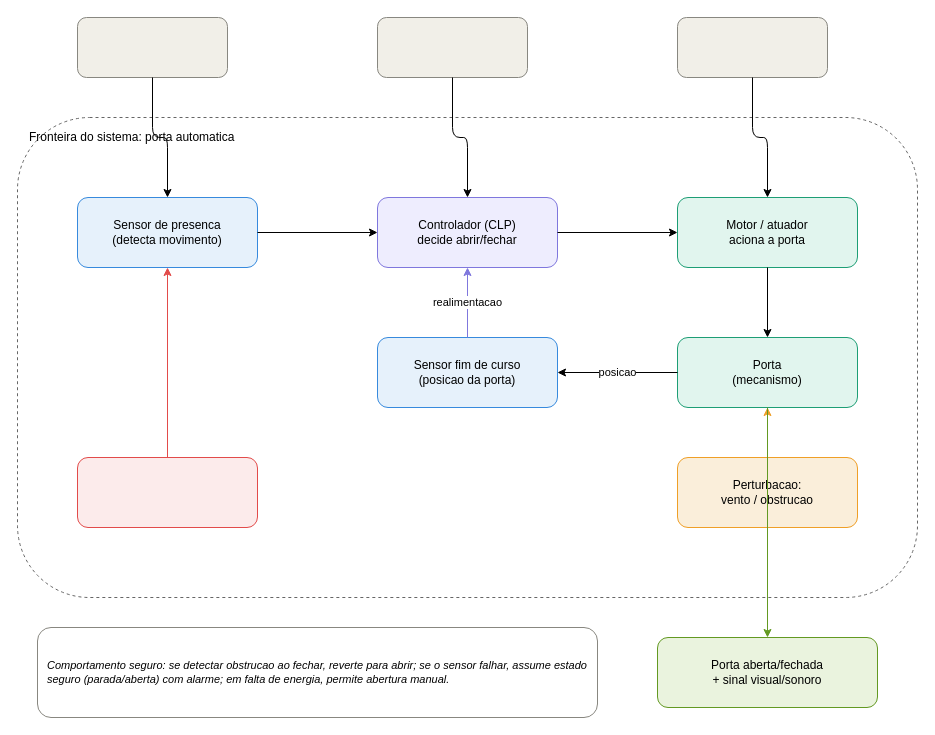
The diagram is 935 pixels wide and 735 high, and some of its shapes have lost their labels. The centre of each missing label's shape, as x and y in pixels:
Botao manual: (x=452, y=47)
Energia eletrica: (x=752, y=47)
Falha: sensor com defeito: (x=167, y=492)
Pessoa (movimento): (x=152, y=47)
